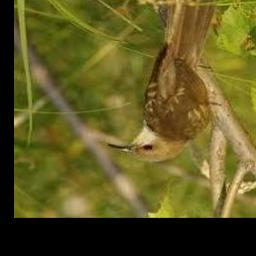Cuckoo: (108, 0, 221, 163)
